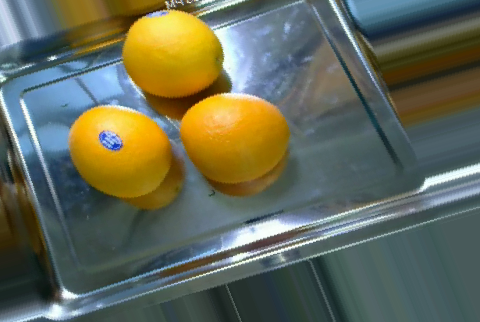Orange: (178, 91, 291, 183), (68, 104, 170, 197), (121, 8, 225, 98)
